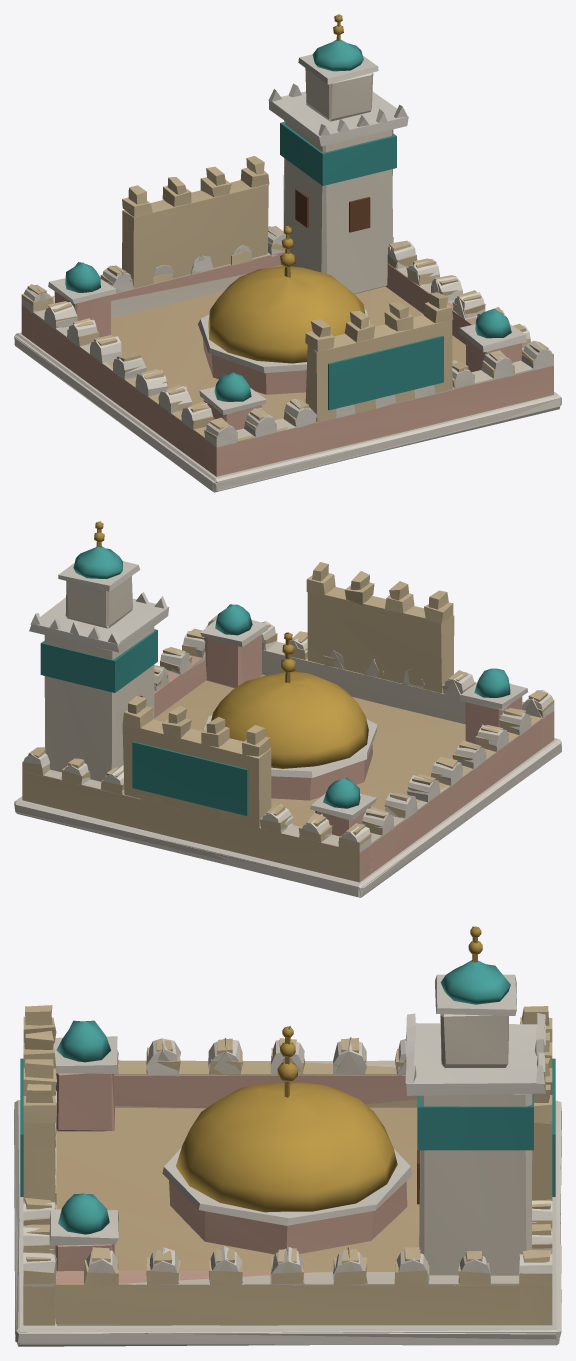
The model's file is roof.stepped_gable.glb.
3 renders of one model, top to bottom at view 1: azimuth 30°, elevation 25°; view 2: azimuth 150°, elevation 25°; view 3: azimuth 270°, elevation 25°, orthographic. The views are drawn at different scales.
Parts seen in each view (by area): view 1: roof.stepped_gable.v1.mesh, roof.stepped_gable.v0.mesh, roof.stepped_gable.v2.mesh; view 2: roof.stepped_gable.v0.mesh, roof.stepped_gable.v1.mesh, roof.stepped_gable.v2.mesh; view 3: roof.stepped_gable.v1.mesh, roof.stepped_gable.v0.mesh, roof.stepped_gable.v2.mesh.
Boxes of the visible parts, x1=… form: roof.stepped_gable.v1.mesh: x1=14, y1=226, x2=560, y2=492; roof.stepped_gable.v0.mesh: x1=14, y1=156, x2=561, y2=491; roof.stepped_gable.v2.mesh: x1=14, y1=14, x2=560, y2=491; roof.stepped_gable.v0.mesh: x1=15, y1=562, x2=561, y2=896; roof.stepped_gable.v1.mesh: x1=14, y1=604, x2=554, y2=897; roof.stepped_gable.v2.mesh: x1=16, y1=521, x2=560, y2=897; roof.stepped_gable.v1.mesh: x1=14, y1=1020, x2=560, y2=1345; roof.stepped_gable.v0.mesh: x1=14, y1=1005, x2=561, y2=1344; roof.stepped_gable.v2.mesh: x1=14, y1=926, x2=561, y2=1346.
Size of the model in its own units: 2.07 by 1.61 by 2.07.
